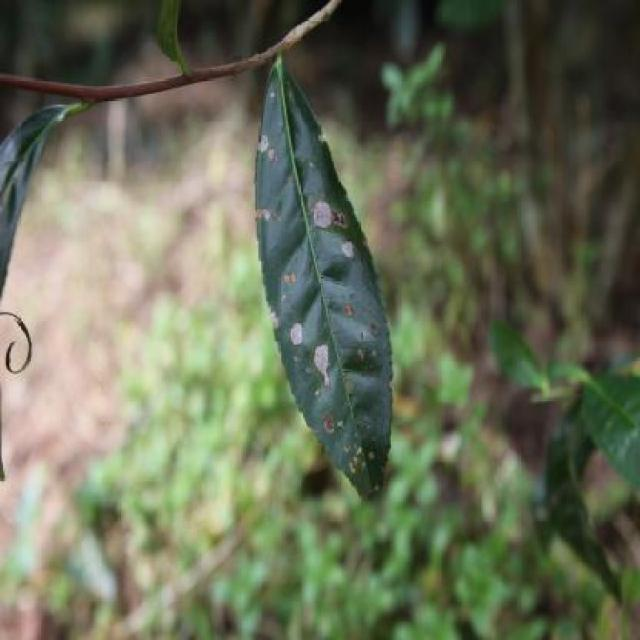Leaf rust of tea: (248, 66, 395, 509)
